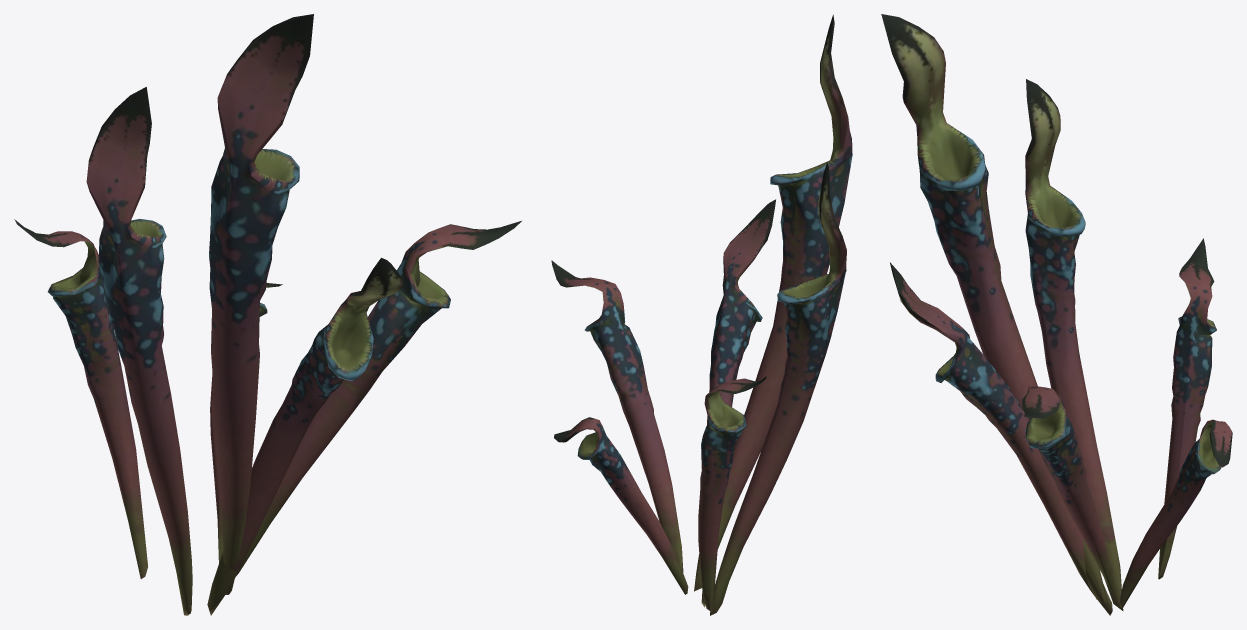
The picture shows the model from 3 angles, left to right: view 1: azimuth 30°, elevation 25°; view 2: azimuth 150°, elevation 25°; view 3: azimuth 270°, elevation 25°; orthographic projection. The views are drawn at different scales.
Visible parts, largest first — view 1: SM_PitcherPlant_03_LOD0; view 2: SM_PitcherPlant_03_LOD0; view 3: SM_PitcherPlant_03_LOD0.
Boxes of the visible parts, <box> form: SM_PitcherPlant_03_LOD0: <box>14,14,521,615</box>; SM_PitcherPlant_03_LOD0: <box>551,14,852,615</box>; SM_PitcherPlant_03_LOD0: <box>881,14,1232,615</box>.
Size of the model in its own units: 0.6906 by 1.13 by 0.6087.
1 material, 1 textured.
